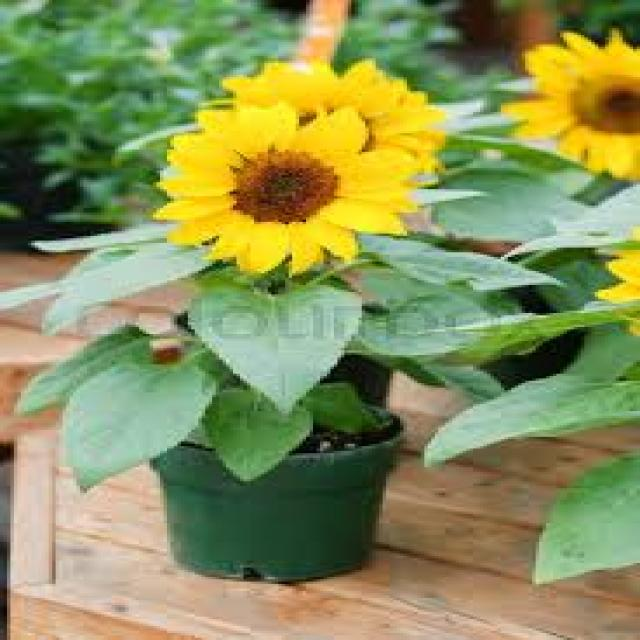sunflower: (141, 101, 429, 287), (218, 54, 457, 187), (496, 23, 640, 198), (588, 225, 640, 336)
